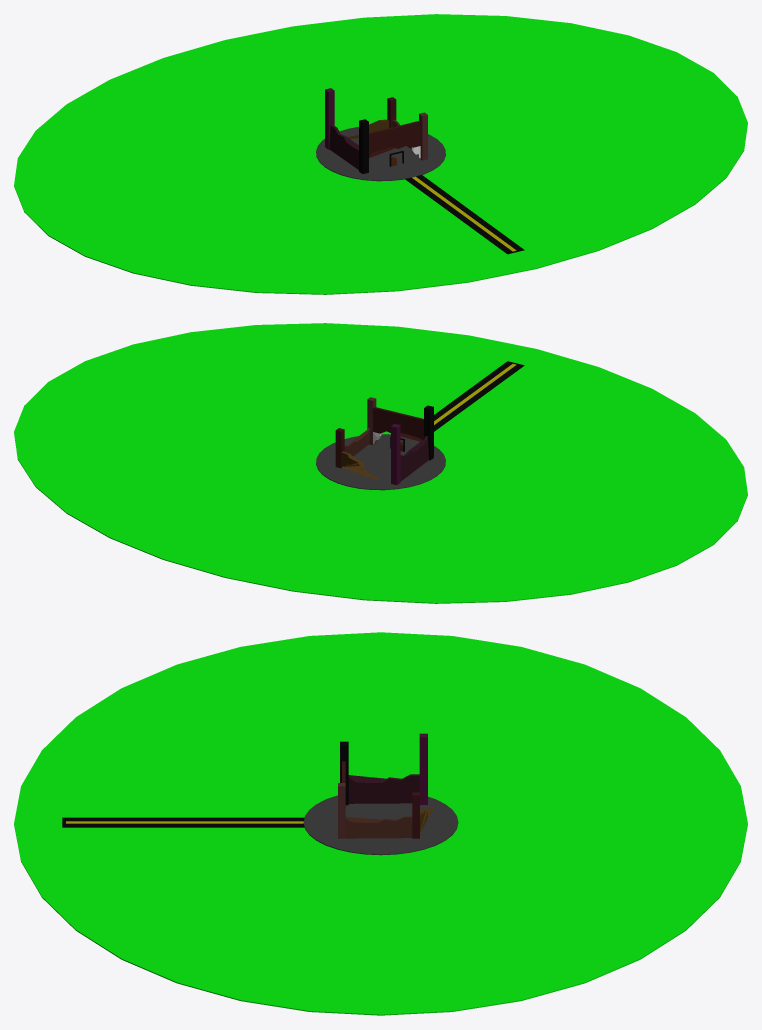
The model's file is FabricaAbandonada2.fbx.
The picture shows the model from 3 angles, top to bottom: view 1: azimuth 30°, elevation 25°; view 2: azimuth 150°, elevation 25°; view 3: azimuth 270°, elevation 25°; orthographic projection. The views are drawn at different scales.
Parts seen in each view (by area): view 1: Cylinder.001, Cylinder.002, Plane, Cube.006, Cube.008, Cube.005, Cube.009, Plane.002; view 2: Cylinder.001, Cylinder.002, Plane, Cube.006, Cube.008, Cube.009; view 3: Cylinder.001, Cylinder.002, Plane, Cube.008, Cube.010, Plane.002, Cube.009.
Part boxes in pixels (x1,y1,x2,y2): Cylinder.001: [14, 14, 747, 294]; Cylinder.002: [316, 126, 445, 181]; Plane: [405, 175, 524, 254]; Cube.006: [369, 121, 420, 157]; Cube.008: [329, 125, 358, 169]; Cube.005: [359, 119, 368, 173]; Cube.009: [325, 88, 334, 149]; Plane.002: [412, 176, 516, 251]; Cylinder.001: [14, 323, 747, 603]; Cylinder.002: [316, 434, 445, 490]; Plane: [434, 361, 524, 431]; Cube.006: [373, 407, 423, 441]; Cube.008: [400, 436, 428, 481]; Cube.009: [391, 423, 400, 484]; Cylinder.001: [14, 632, 747, 1015]; Cylinder.002: [303, 795, 458, 855]; Plane: [62, 817, 304, 827]; Cube.008: [348, 774, 419, 803]; Cube.010: [344, 816, 412, 838]; Plane.002: [66, 821, 303, 823]; Cube.009: [419, 733, 427, 804].
Bounding box in the file's own units: 23765 × 2070 × 19280.
